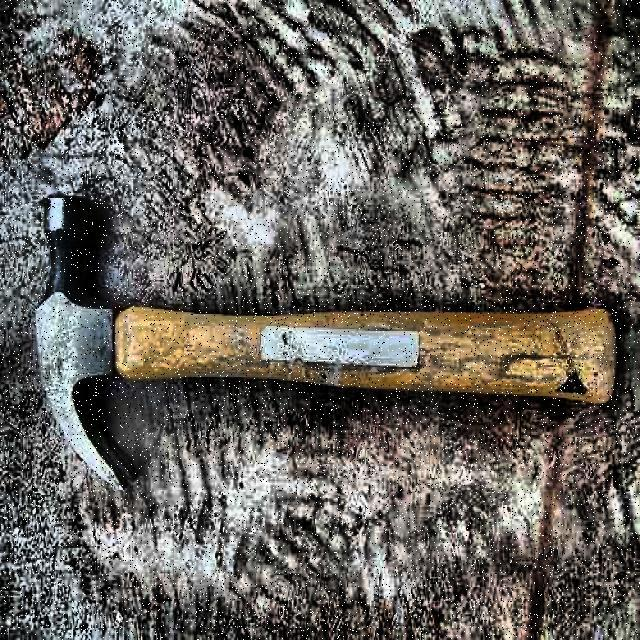hammer: (31, 193, 625, 491)
